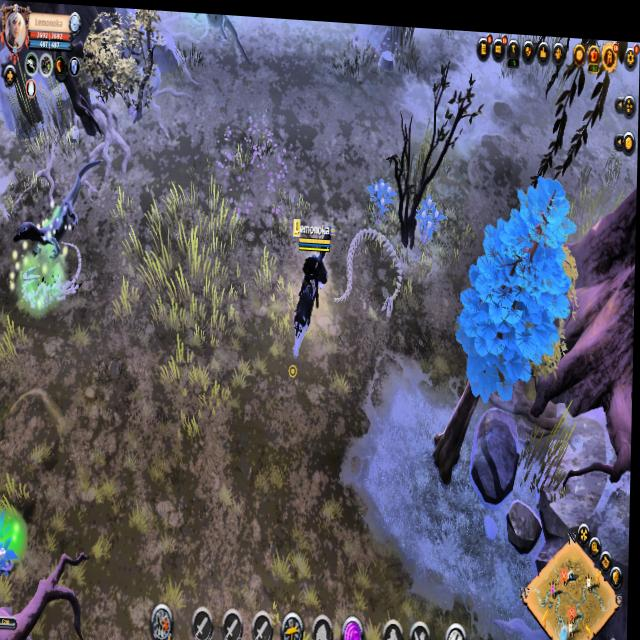fiber tier 4: (416, 185, 446, 243), (367, 170, 396, 223)
wood tier 3: (455, 163, 580, 404)
